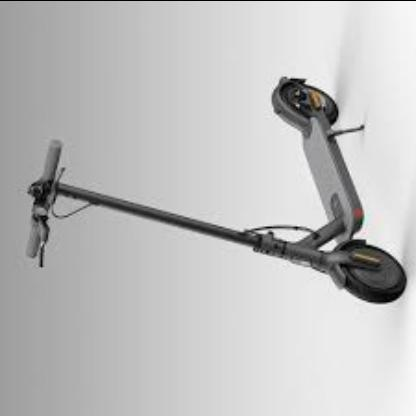bike: (17, 75, 407, 305)
